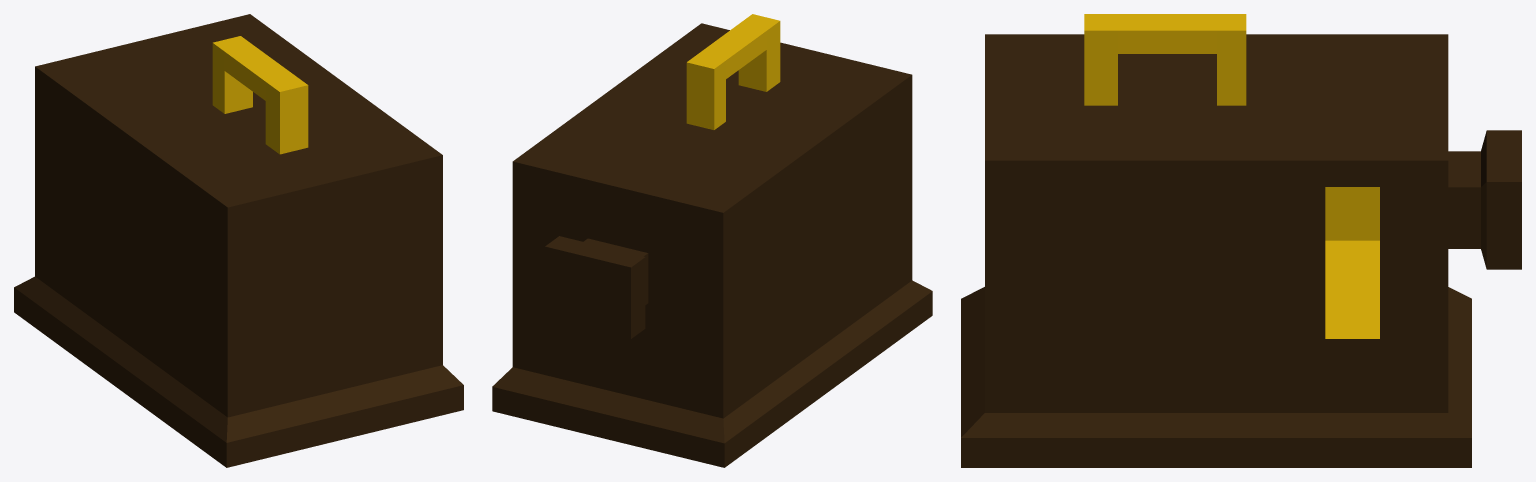
File: SimpleLaternaM.fbx
The picture shows the model from 3 angles, left to right: view 1: azimuth 30°, elevation 25°; view 2: azimuth 150°, elevation 25°; view 3: azimuth 270°, elevation 25°; orthographic projection. The views are drawn at different scales.
Visible parts, largest first — view 1: Cube; view 2: Cube; view 3: Cube.
Boxes of the visible parts, box(x1,y1,x2,y2) form: Cube: box(14, 14, 463, 467); Cube: box(492, 14, 932, 467); Cube: box(961, 14, 1521, 467).
Bounding box in the file's own units: 142 × 179 × 242.
